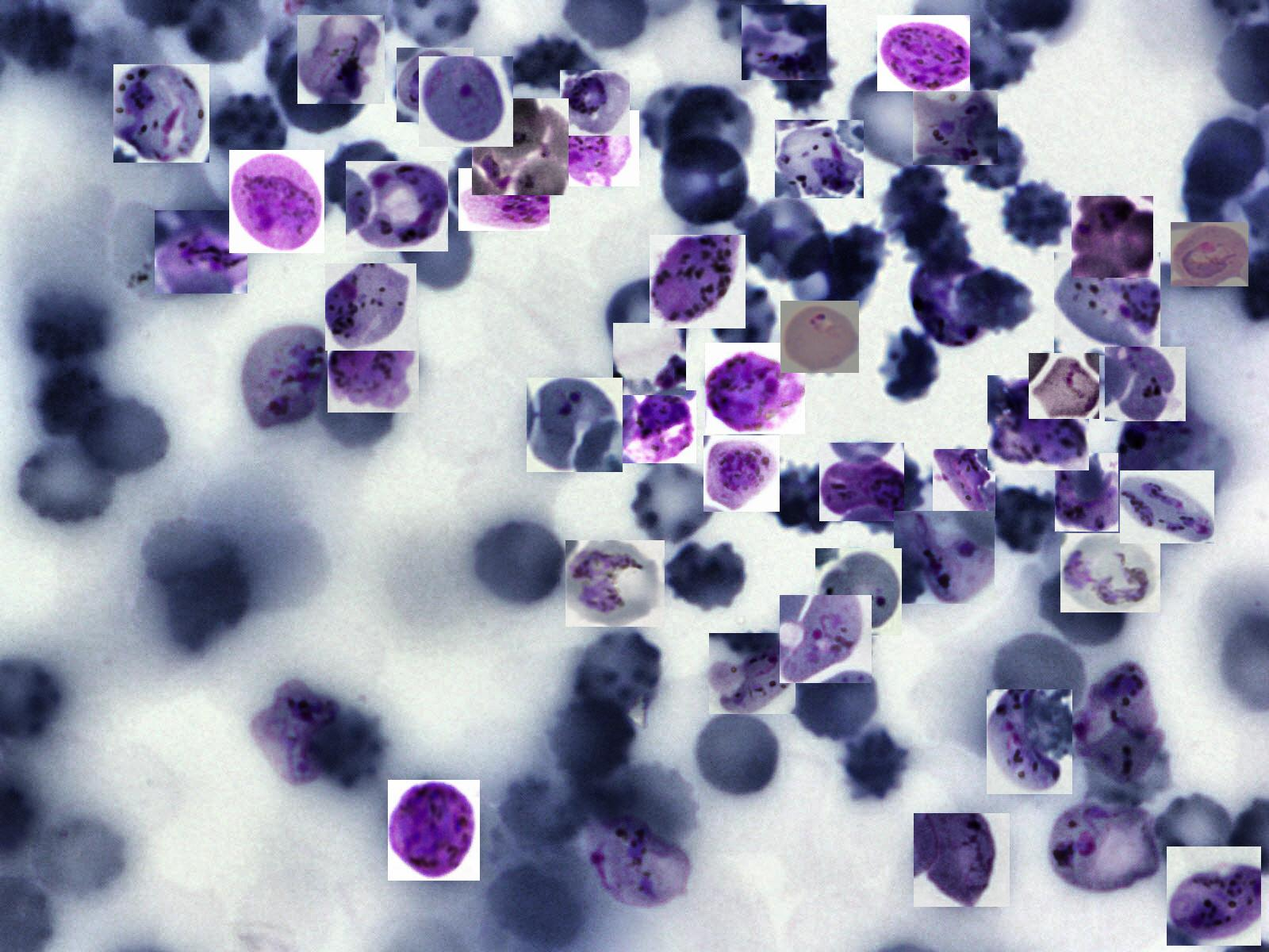Infected: (1044, 797, 1162, 894), (1065, 662, 1160, 782), (1054, 252, 1160, 355), (236, 323, 334, 434), (585, 816, 691, 909), (229, 150, 324, 253), (987, 375, 1089, 470), (113, 64, 209, 163), (472, 98, 569, 195), (1167, 846, 1261, 946), (894, 511, 995, 604), (388, 780, 480, 881), (346, 161, 448, 251), (706, 343, 806, 434), (527, 378, 623, 472), (914, 813, 1010, 907), (650, 235, 746, 328), (987, 689, 1072, 794), (255, 678, 336, 788), (328, 316, 419, 413), (565, 540, 665, 627), (419, 56, 513, 147), (1118, 405, 1206, 501), (910, 255, 999, 347), (780, 595, 872, 683), (326, 263, 417, 351), (1060, 533, 1160, 612), (298, 15, 385, 104), (155, 210, 247, 294), (815, 548, 902, 635), (877, 15, 970, 91), (709, 633, 796, 714), (775, 120, 864, 198), (1120, 470, 1214, 543), (551, 110, 639, 186), (1072, 196, 1153, 278), (819, 443, 904, 521), (913, 90, 998, 165), (742, 5, 826, 80), (1105, 347, 1186, 421), (616, 390, 696, 463), (458, 168, 550, 231), (704, 436, 780, 512), (780, 301, 859, 374), (397, 48, 473, 122), (614, 323, 687, 395), (1055, 453, 1118, 532), (1171, 222, 1248, 286), (1029, 353, 1099, 419), (560, 70, 630, 136), (933, 449, 995, 516)
Uninfected: (850, 61, 941, 178), (13, 431, 121, 528), (272, 40, 373, 137), (468, 515, 568, 612), (70, 388, 175, 479), (655, 133, 753, 228), (1033, 563, 1133, 654), (307, 358, 398, 456), (691, 708, 784, 802), (594, 766, 702, 845), (665, 83, 757, 175), (790, 654, 883, 745), (570, 624, 661, 715), (163, 559, 251, 653), (546, 697, 636, 788), (995, 635, 1087, 721), (742, 194, 832, 281), (396, 204, 479, 296), (842, 451, 927, 538), (1156, 794, 1236, 885), (606, 274, 688, 362), (631, 462, 719, 543), (788, 234, 870, 319), (663, 535, 751, 613), (324, 138, 404, 222), (642, 83, 721, 164), (765, 462, 850, 537), (996, 178, 1077, 255), (880, 161, 950, 250), (310, 708, 387, 787), (446, 141, 527, 216), (704, 280, 779, 360), (213, 92, 287, 170), (953, 113, 1023, 193), (506, 33, 596, 95), (840, 727, 911, 804), (950, 30, 1035, 94), (821, 222, 889, 302), (957, 267, 1038, 334), (34, 363, 107, 436), (898, 200, 972, 271), (30, 297, 105, 367), (769, 35, 830, 111), (881, 324, 936, 401), (990, 486, 1054, 552)
